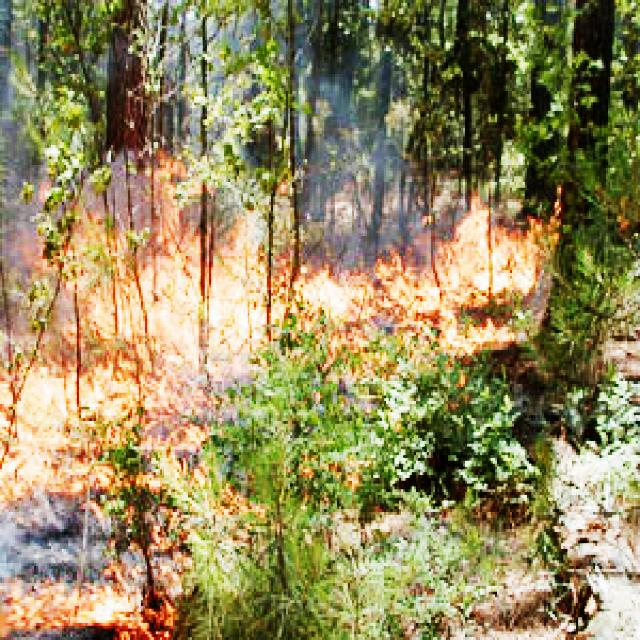api: (1, 141, 575, 377), (1, 323, 299, 538), (1, 516, 210, 640)
